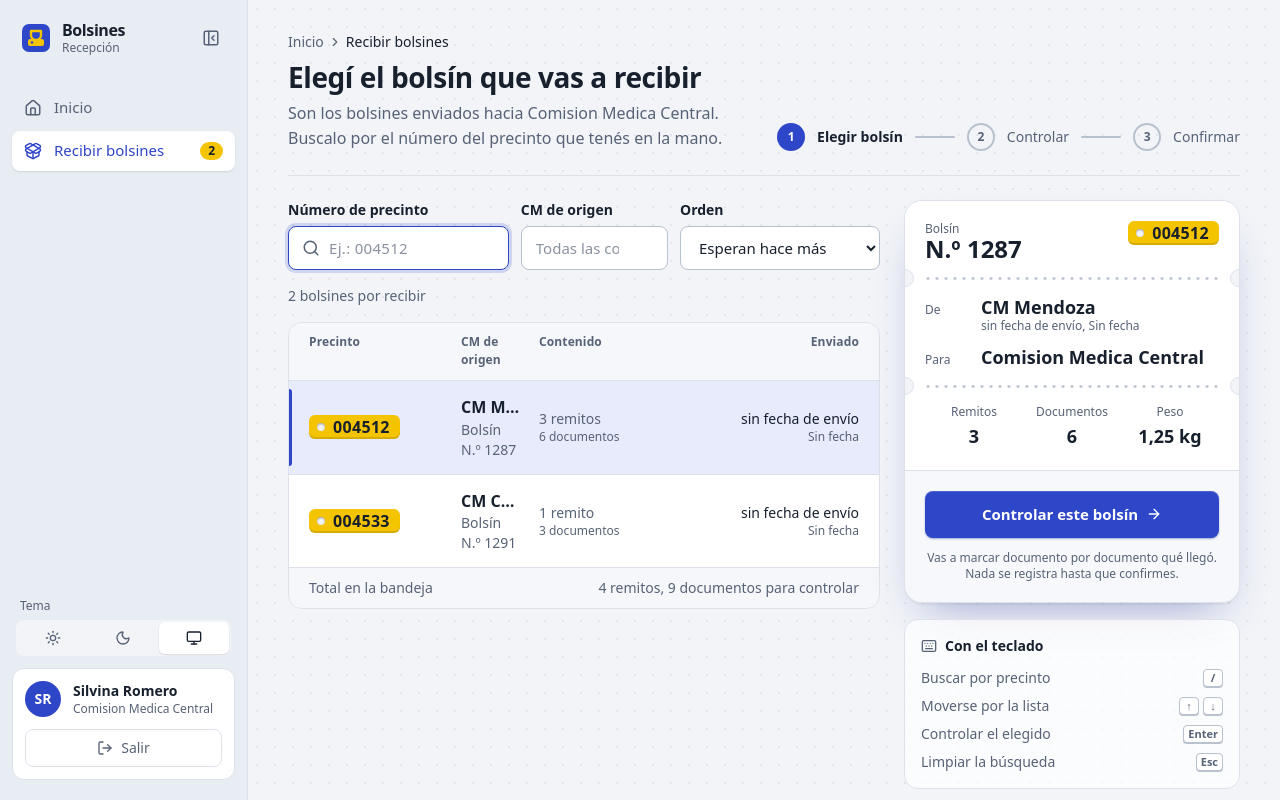
Test case: T7: ingreso, inicio y bandeja › la bandeja lista CM origen y precinto, y avisa A1 con opcion de ver todos
Check: the option "CM Mendoza" is shown, box [289,381,879,475]
Check: the text "004533" is shown, box [333,513,390,529]
In the search field labelled "Número de precinto": (398, 248) [288,226,509,270], type "9999"
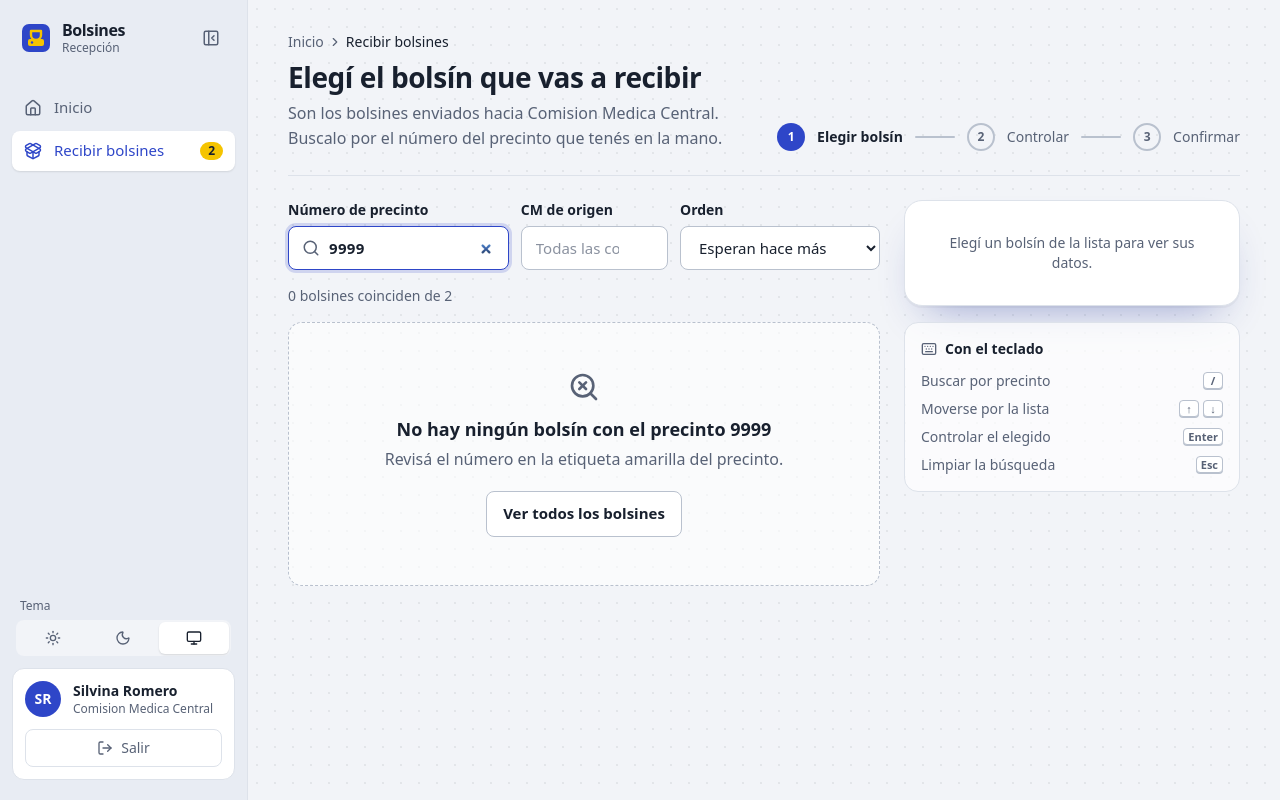
Check: the text "No hay ningún bolsín con el precinto 9999" is shown, box [397,415,772,443]
Click the button "Ver todos los bolsines": (584, 514) [486,491,682,537]
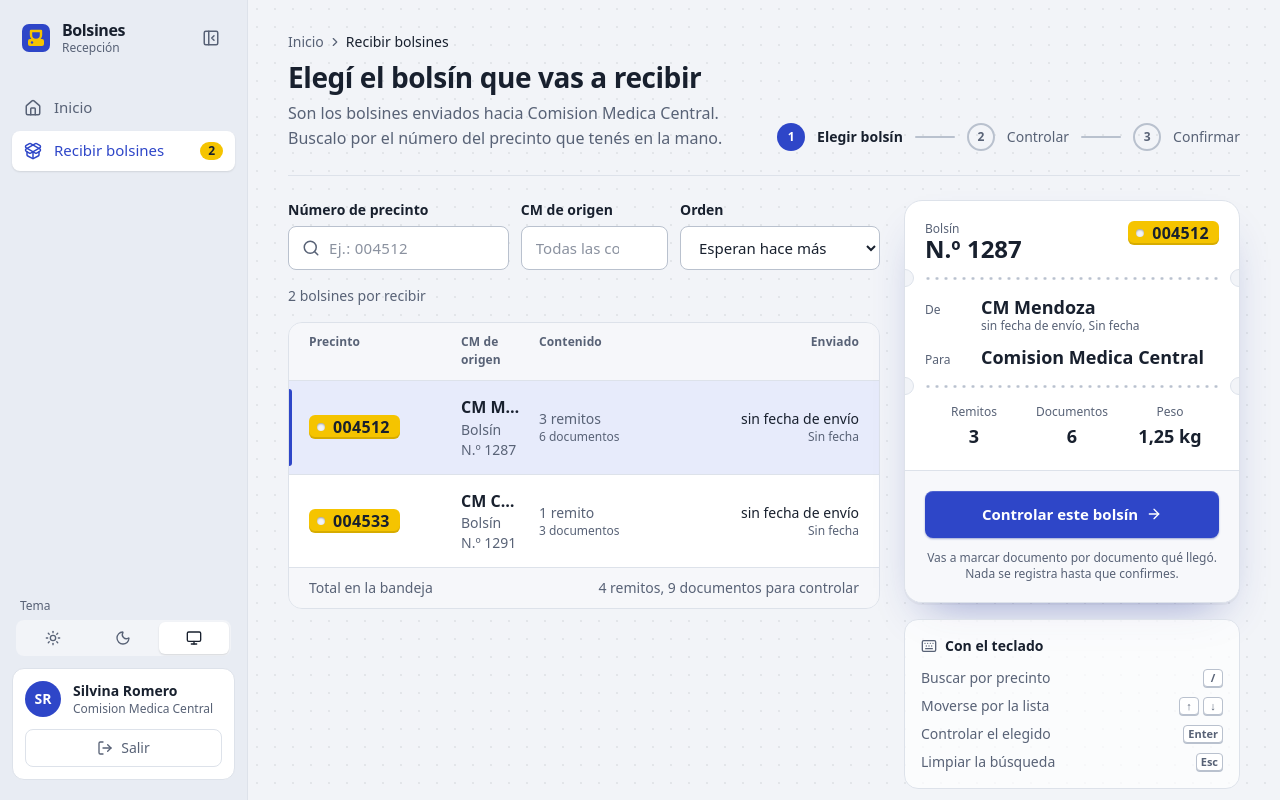
Check: the text "CM Cordoba" is shown, box [461,489,523,513]
